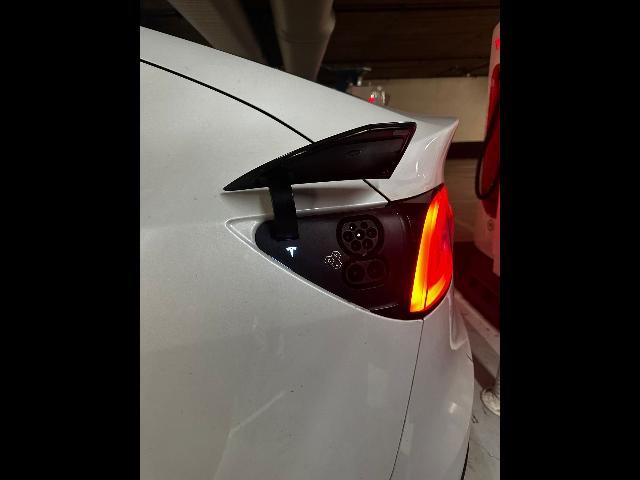inlet: (342, 220, 378, 254)
inlet-above-left: (349, 223, 357, 231)
inlet-above-right: (360, 221, 368, 229)
inlet-below-left: (350, 240, 362, 252)
inlet-below-right: (362, 238, 373, 250)
inlet-circle: (355, 229, 366, 240)
inlet-circle-left: (343, 231, 355, 242)
inlet-circle-right: (366, 227, 377, 239)
inlet-minus: (367, 261, 384, 279)
inlet-plus: (347, 264, 365, 283)
